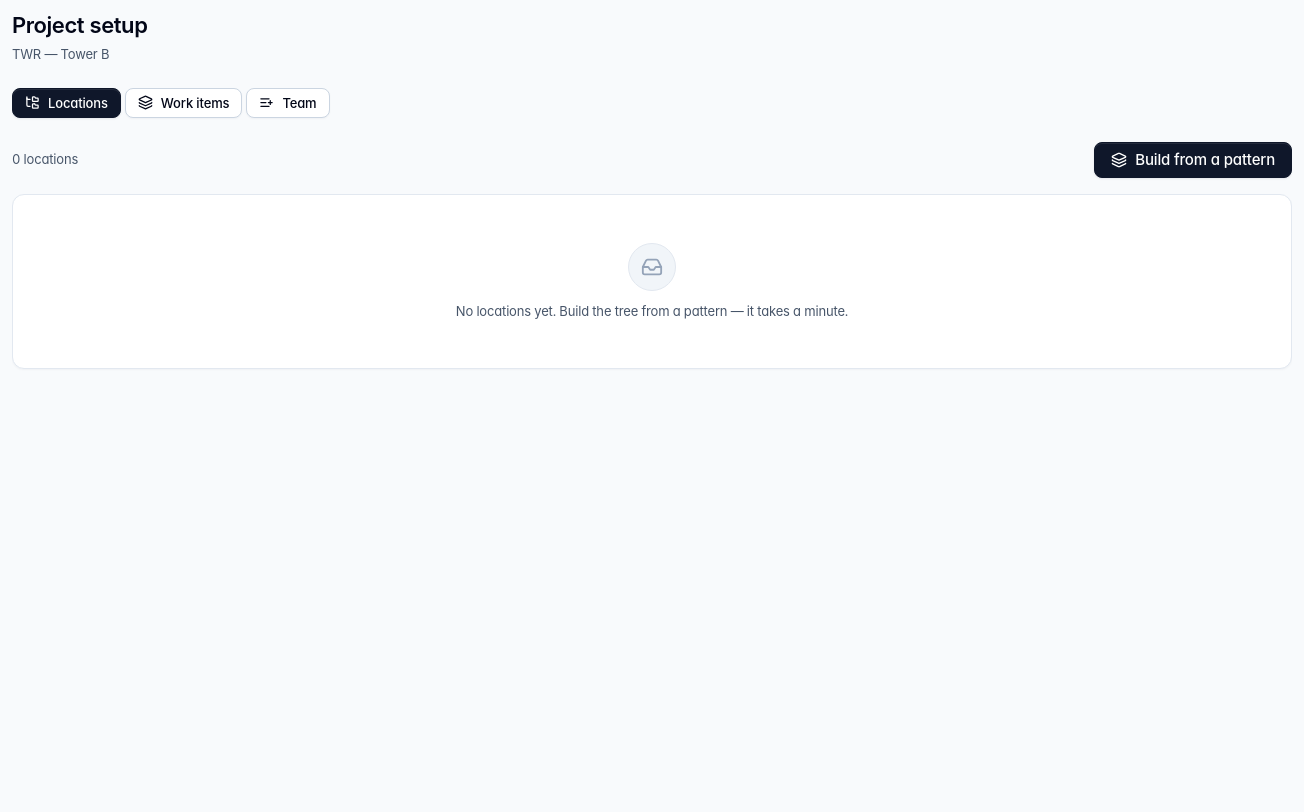
S-W08 project setup › the pattern builder states how many locations it will create BEFORE creating them
The width and height of the screenshot is (1304, 812).
Click the button "Build from a pattern". click: (1193, 160)
box: [1094,142,1292,178]
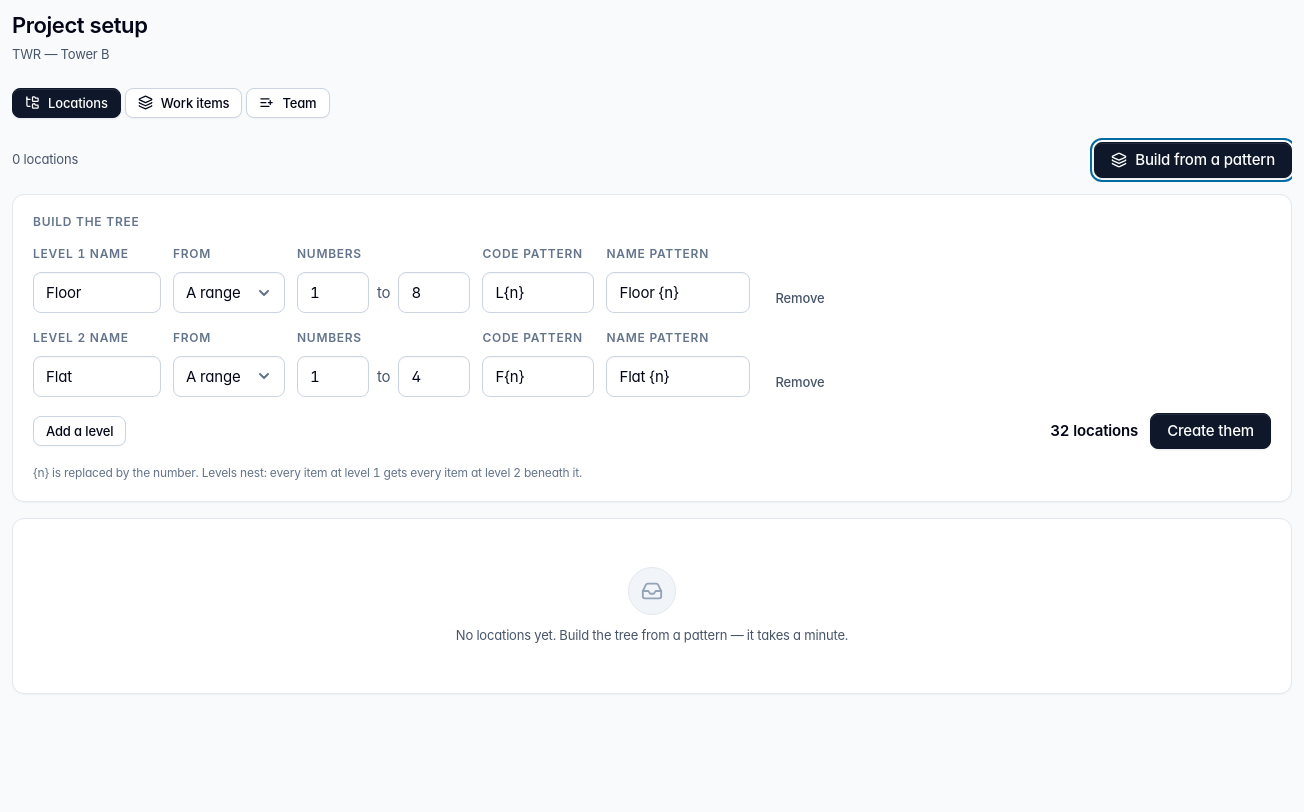
Expected: the text "32 locations" is shown, [1050,419,1138,443]
